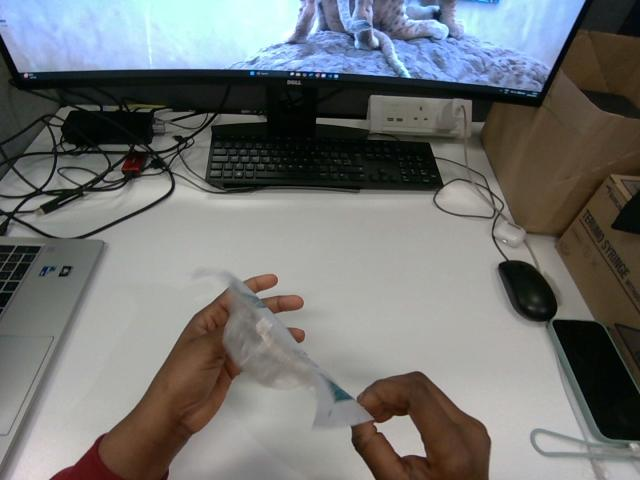gallipot: (223, 274, 372, 426)
